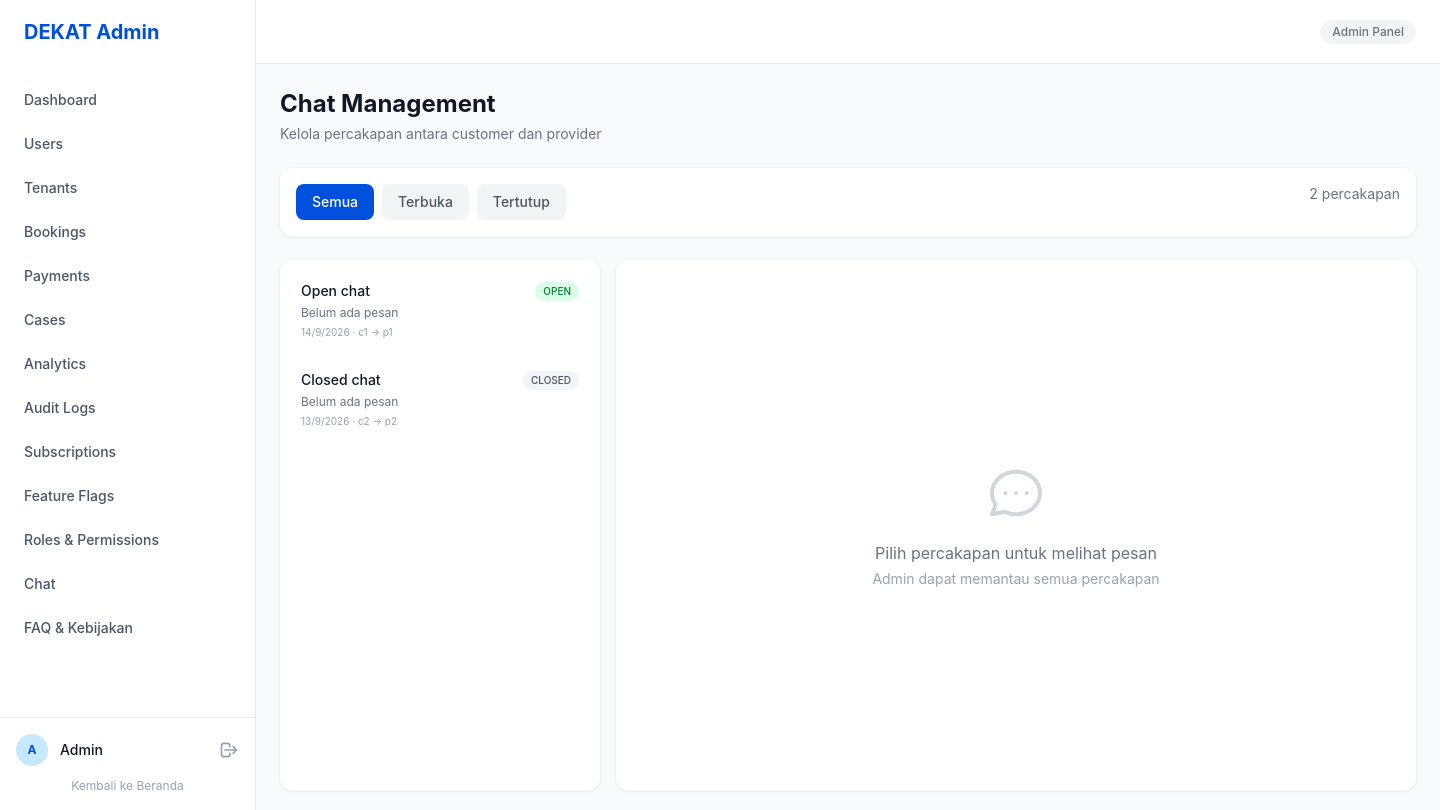
AdminChatPage › filter buttons filter conversations
Expected: the text "Open chat" is shown, [301, 281, 370, 301]
Click the button "Terbuka" at point(426, 202), box [382, 184, 469, 220]
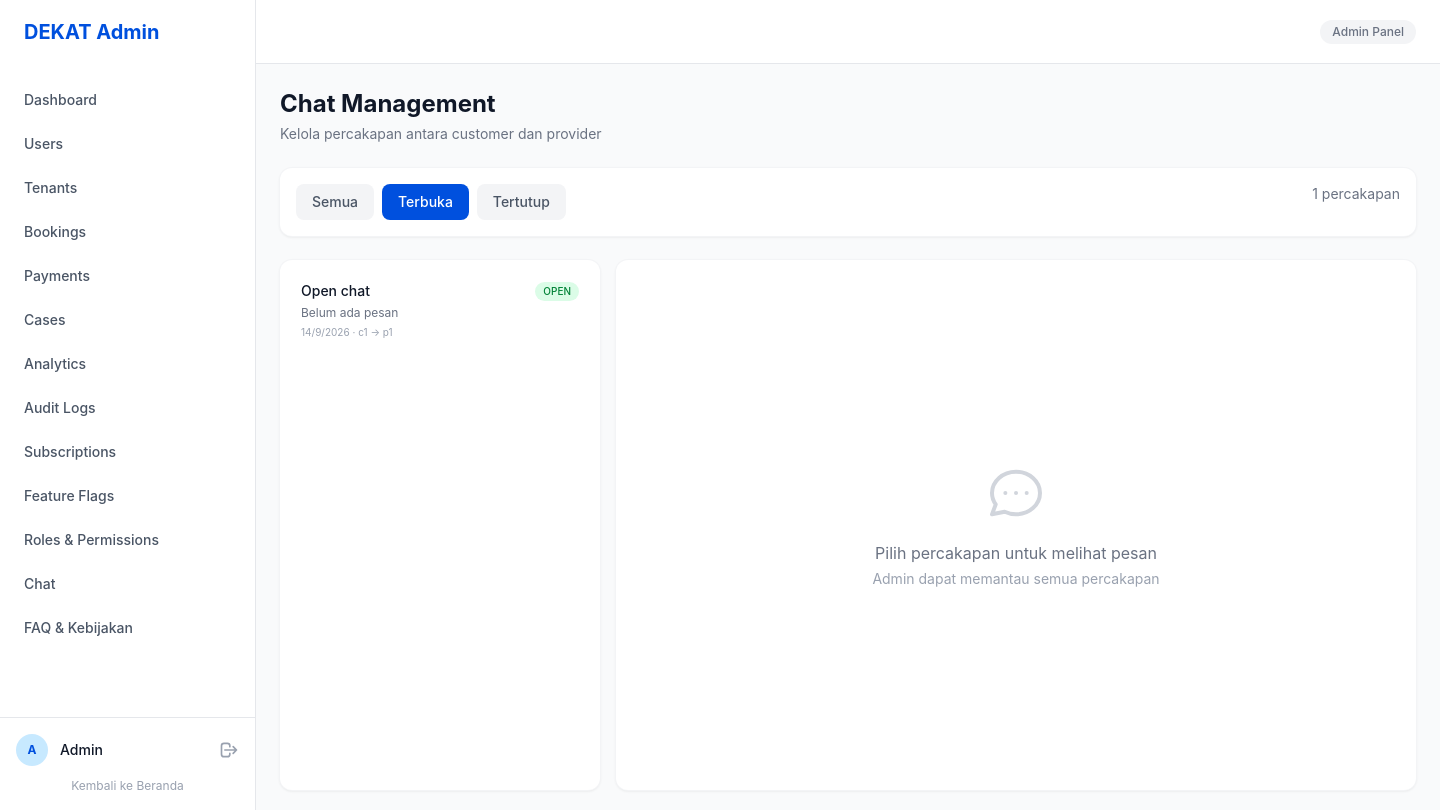
Expected: the text "Open chat" is shown, [301, 281, 370, 301]
Expected: the button "Closed chat" is gone
